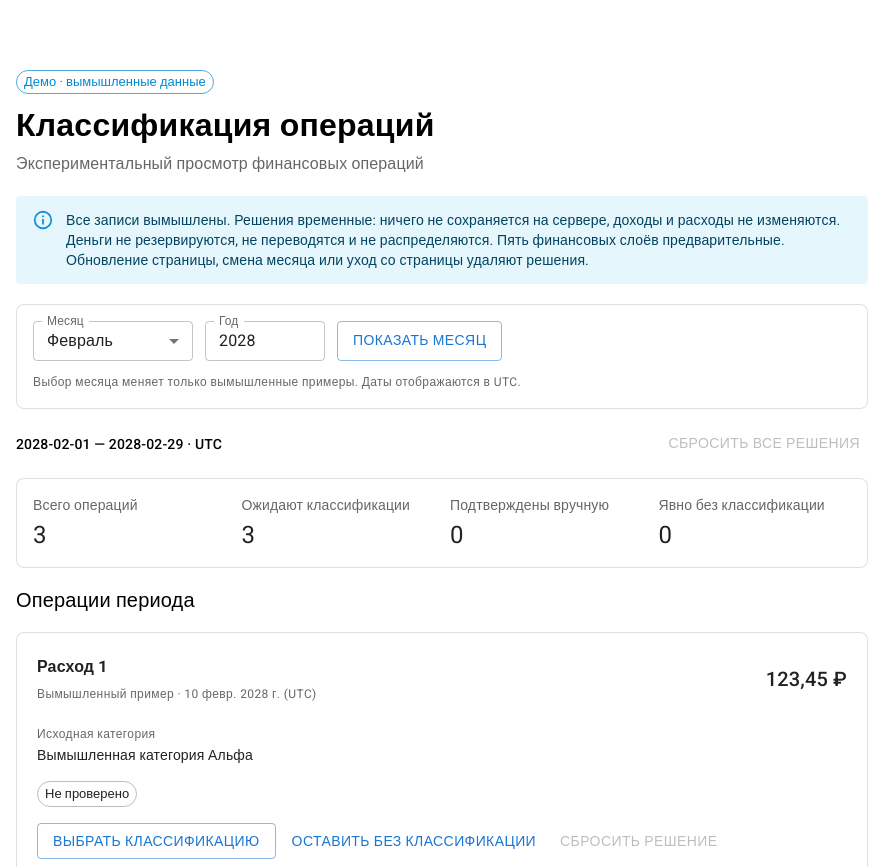
Test case: fictional visual review using real transitions and resolver › non-spending expense role loan_issuance has no spending layer
The image size is (885, 867).
Step 1. Click the button "Выбрать классификацию" → click(156, 841), box [37, 823, 276, 859]
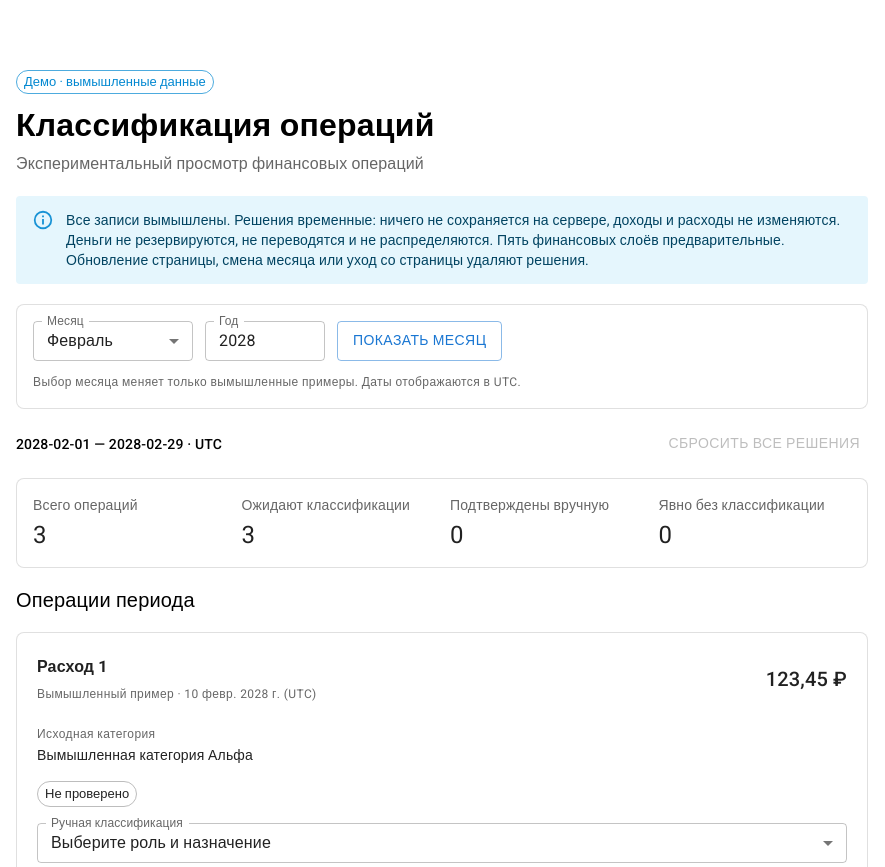
Step 2. Select "Выдача займа" in the dropdown labelled "Ручная классификация" → (442, 843), box [37, 823, 847, 863]
(page scrolled)
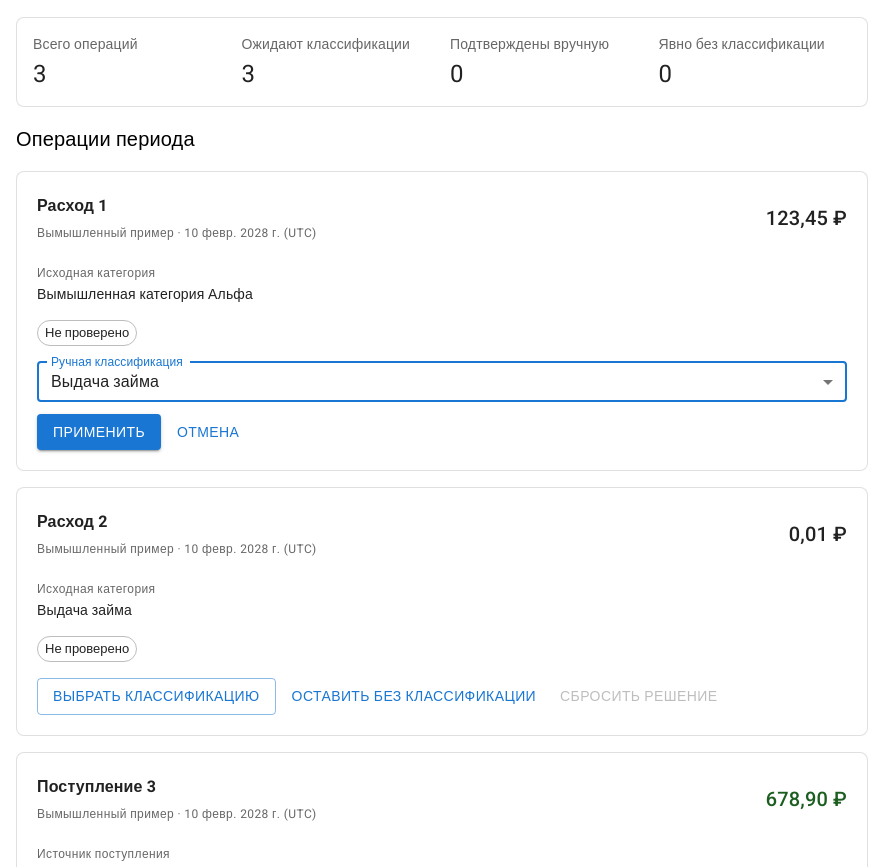
Step 3. Click the button "Применить" → click(99, 432), box [37, 414, 161, 450]
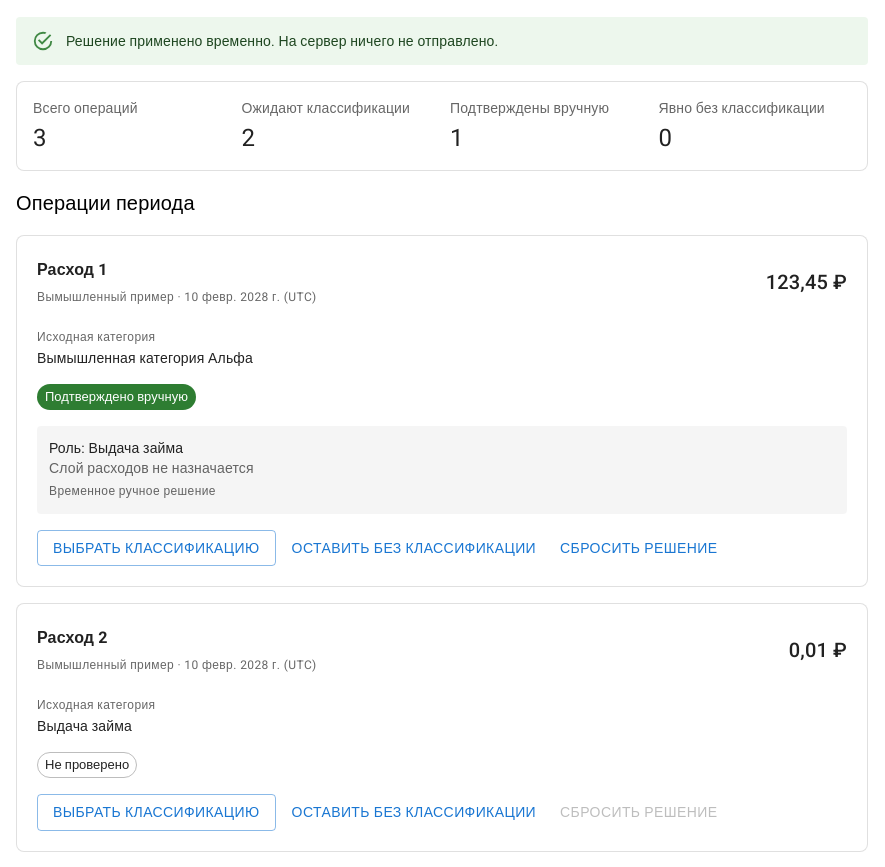
expect the text "Слой расходов не назначается" is shown: met, box [49, 460, 254, 476]
